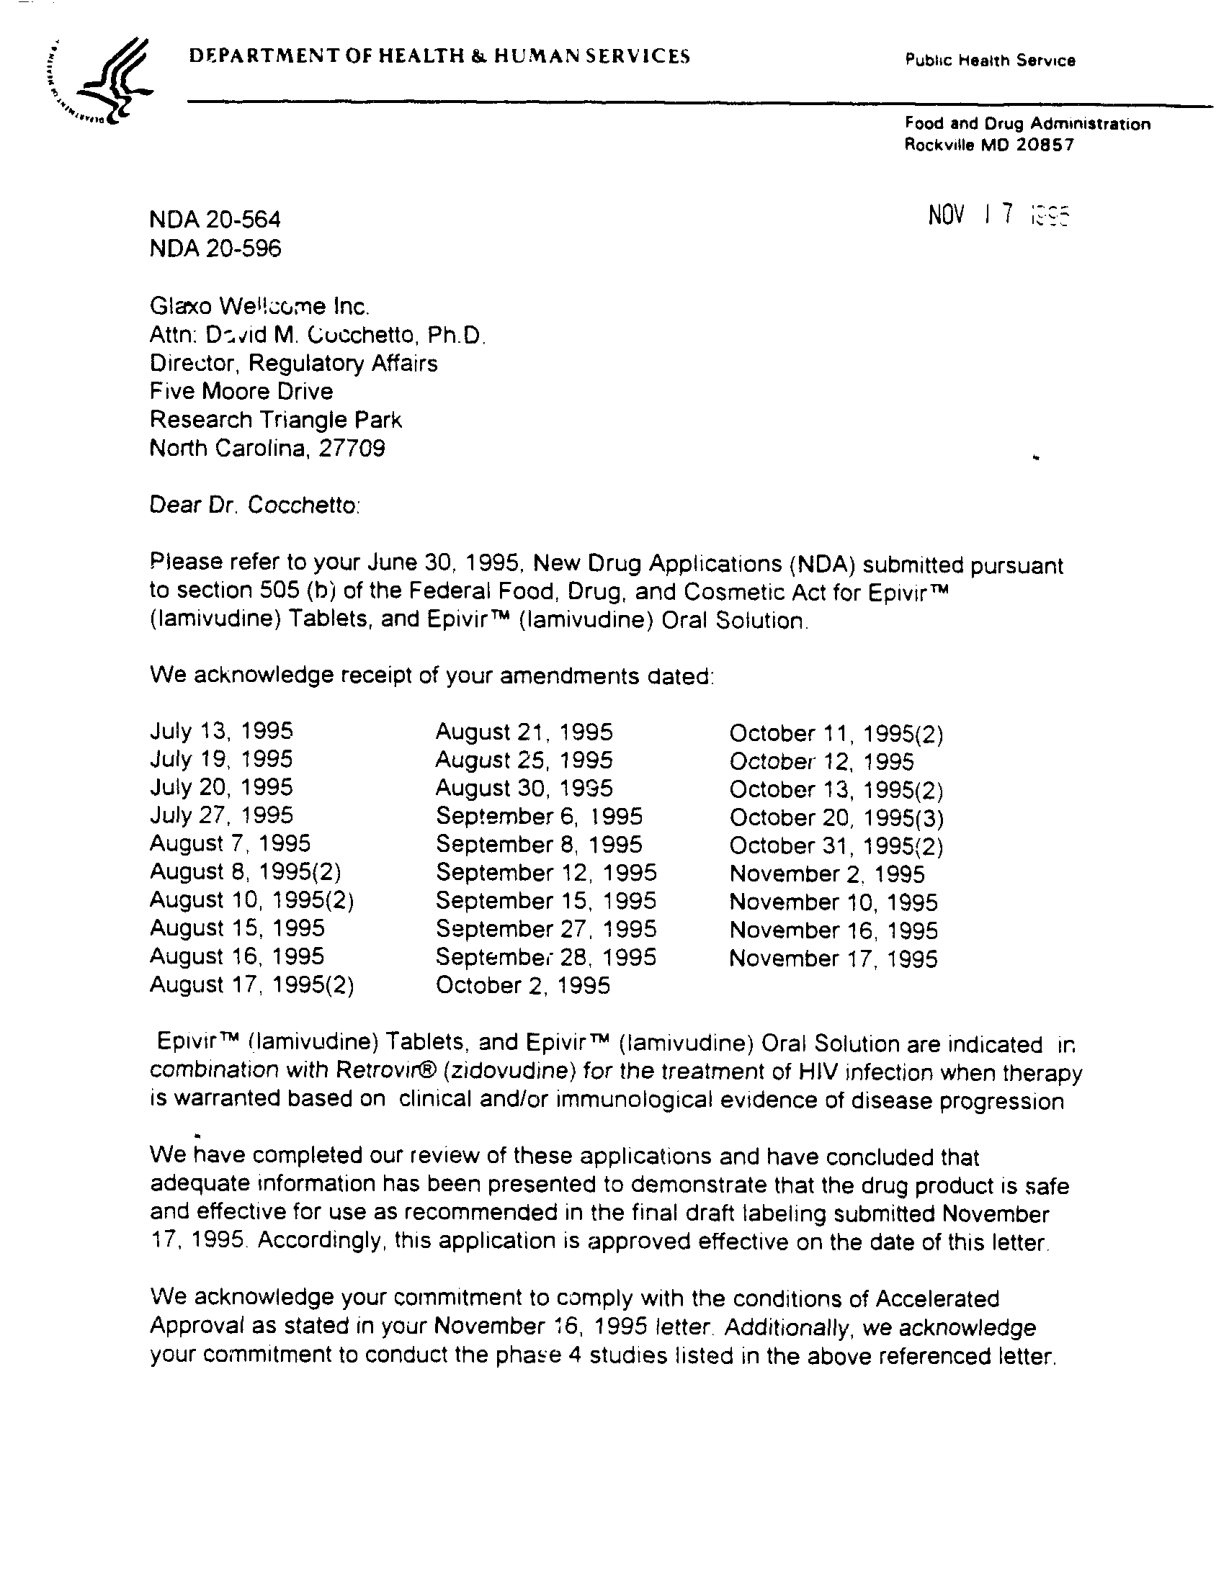nolines: (148, 714, 944, 995)
